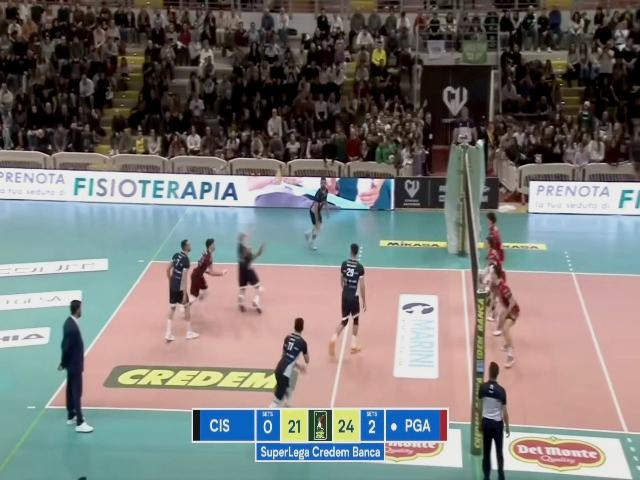volleyball court: (45, 260, 640, 435)
